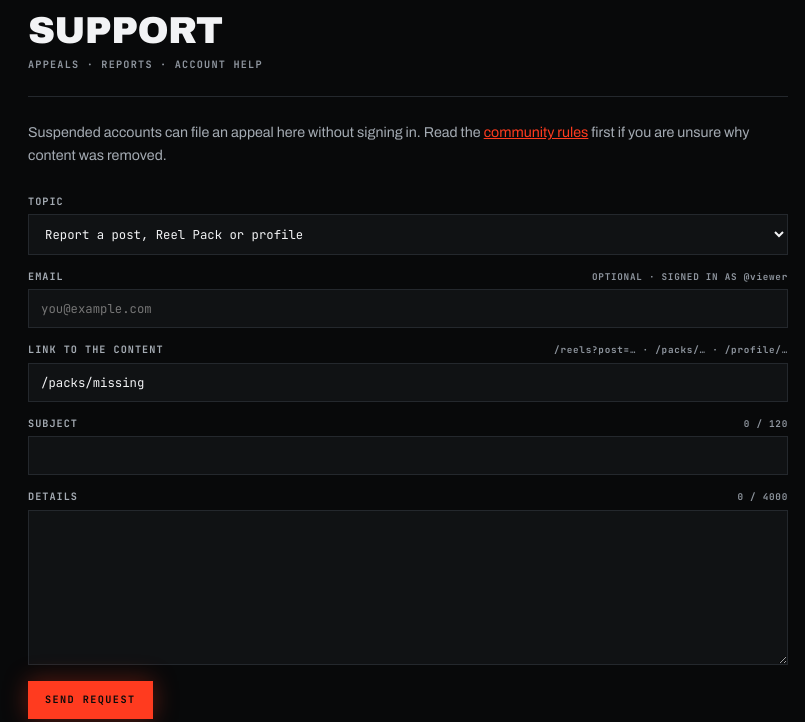
Scenario: SupportPage › shows a server field error next to the link
This screenshot has width=805, height=722.
What coordinates should you click on to do the following:
click the button "SEND REQUEST"
I would click on:
 (90, 700)
Its box is [28,681,152,719].
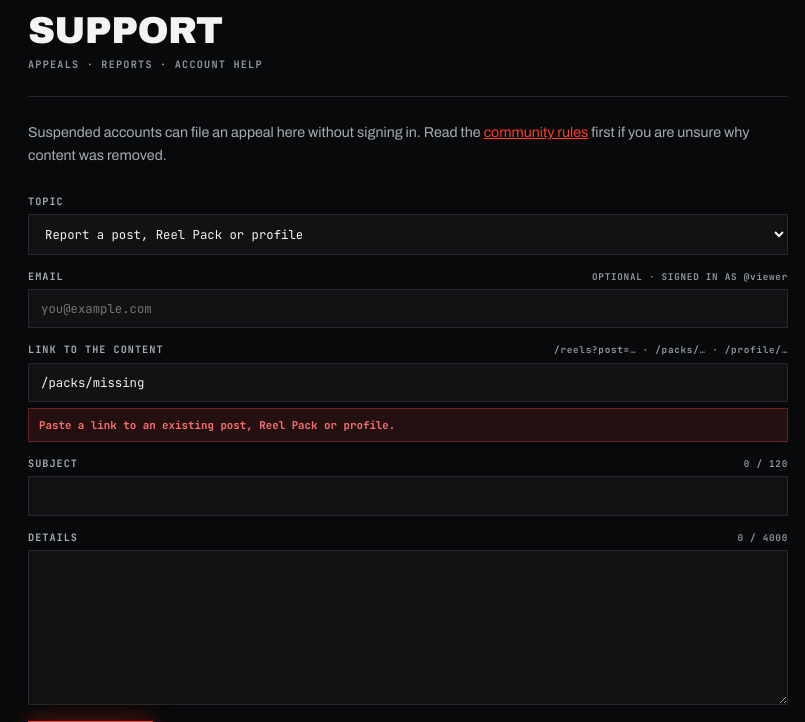
Check: the text "Paste a link to an existing post, Reel Pack or profile." is shown, box [28,408,788,442]
